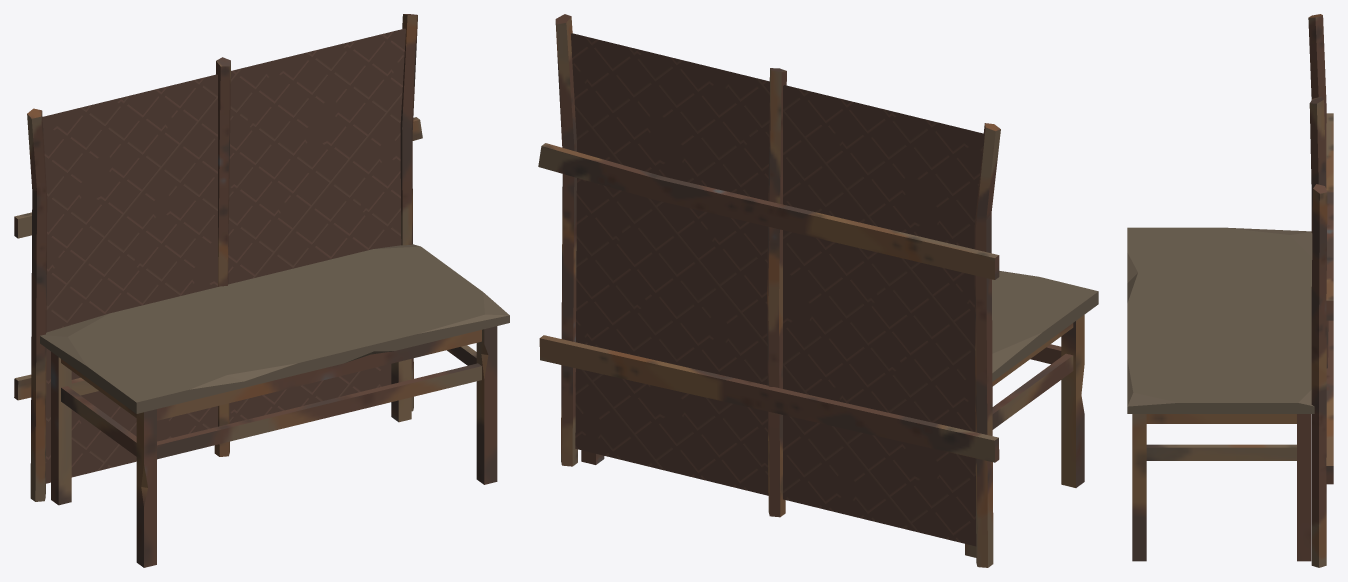
Rendered from SM_Prop_Workbench_01.obj.
3 views of the same model, side by side, from view 1: azimuth 30°, elevation 25°; view 2: azimuth 150°, elevation 25°; view 3: azimuth 270°, elevation 25° (orthographic). The views are drawn at different scales.
Visible parts, largest first — view 1: SM_Prop_Workbench_01_1, SM_Prop_Workbench_01_0; view 2: SM_Prop_Workbench_01_1, SM_Prop_Workbench_01_0; view 3: SM_Prop_Workbench_01_0.
Boxes of the visible parts, x1,y1,x2,y2 form: SM_Prop_Workbench_01_1: [42, 28, 405, 483]; SM_Prop_Workbench_01_0: [14, 14, 509, 567]; SM_Prop_Workbench_01_1: [571, 33, 983, 546]; SM_Prop_Workbench_01_0: [538, 14, 1098, 567]; SM_Prop_Workbench_01_0: [1127, 14, 1333, 567].
Bounding box in the file's own units: 2.18 × 2.03 × 0.9981.
2 materials, 2 textured.
